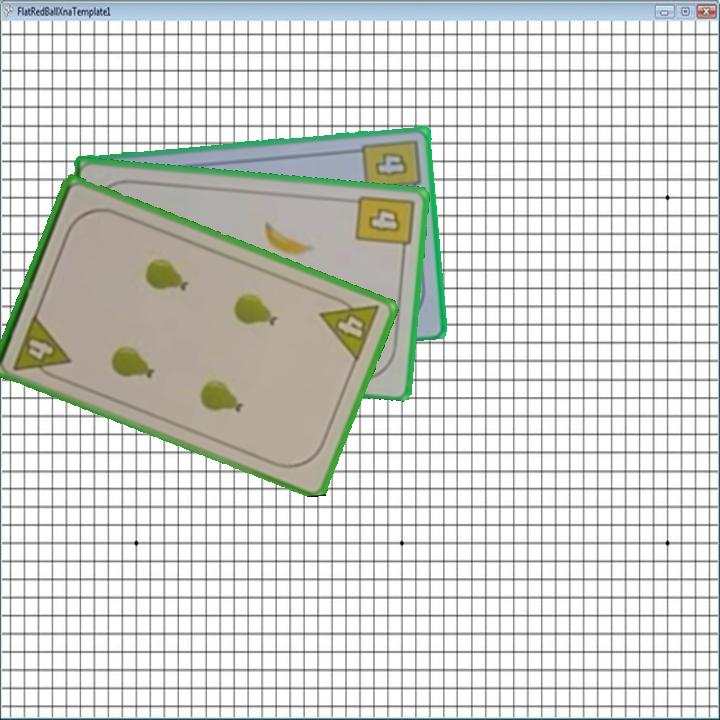4b: (352, 191, 417, 259), (358, 135, 423, 199)
4p: (316, 289, 383, 365), (10, 310, 74, 384)
